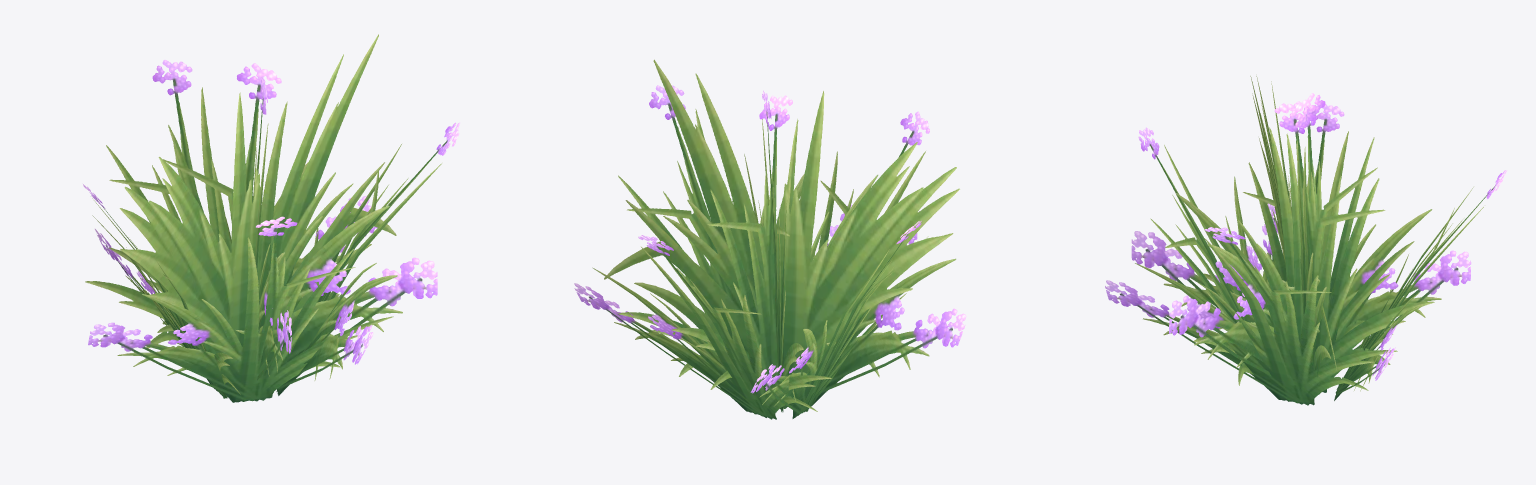
The model's file is grass_bloom.glb.
3 renders of one model, left to right at view 1: azimuth 30°, elevation 25°; view 2: azimuth 150°, elevation 25°; view 3: azimuth 270°, elevation 25°, orthographic. The views are drawn at different scales.
Visible parts, largest first — view 1: grass_bloom; view 2: grass_bloom; view 3: grass_bloom.
Boxes of the visible parts, left/top/right/bottom form: grass_bloom: left=83, top=34, right=459, bottom=402; grass_bloom: left=574, top=59, right=966, bottom=419; grass_bloom: left=1105, top=76, right=1507, bottom=405.
Size of the model in its own units: 0.8754 by 0.6552 by 0.8818.
Materials: 1 (1 with a texture image).
